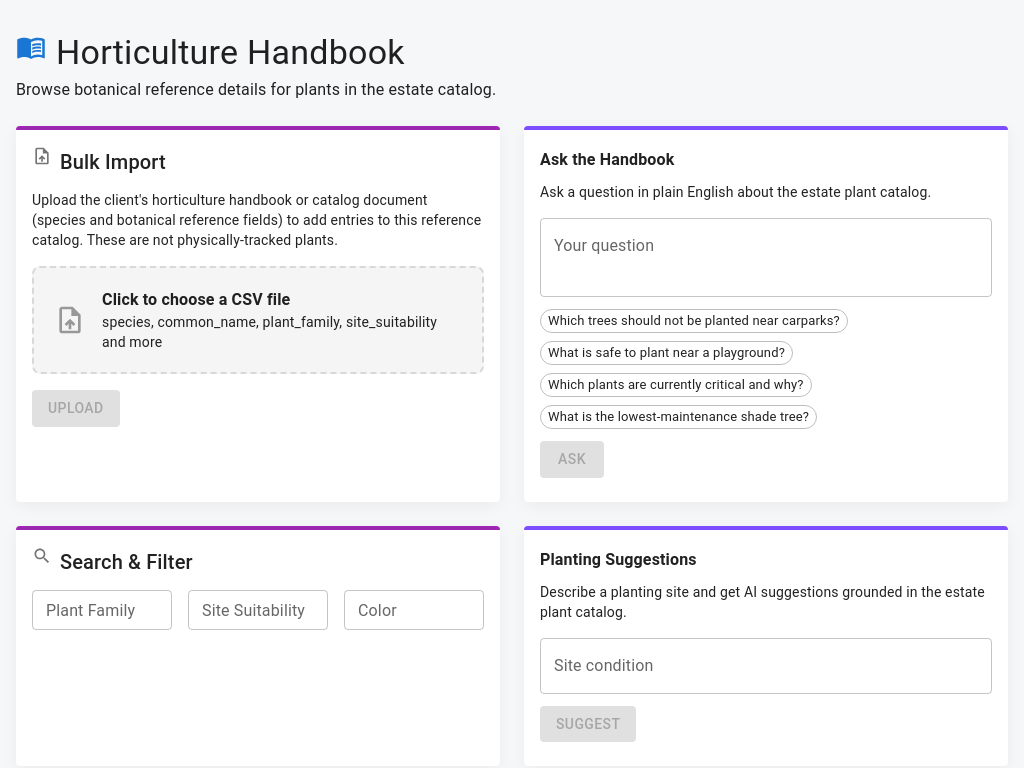
Test: HorticultureHandbook › submits a question to the Ask the Handbook box and displays the answer
Type "How often should I water ficus?" into the text box labelled "Your question".
click(766, 258); type("How often should I water ficus?")  # box [554,234,978,280]
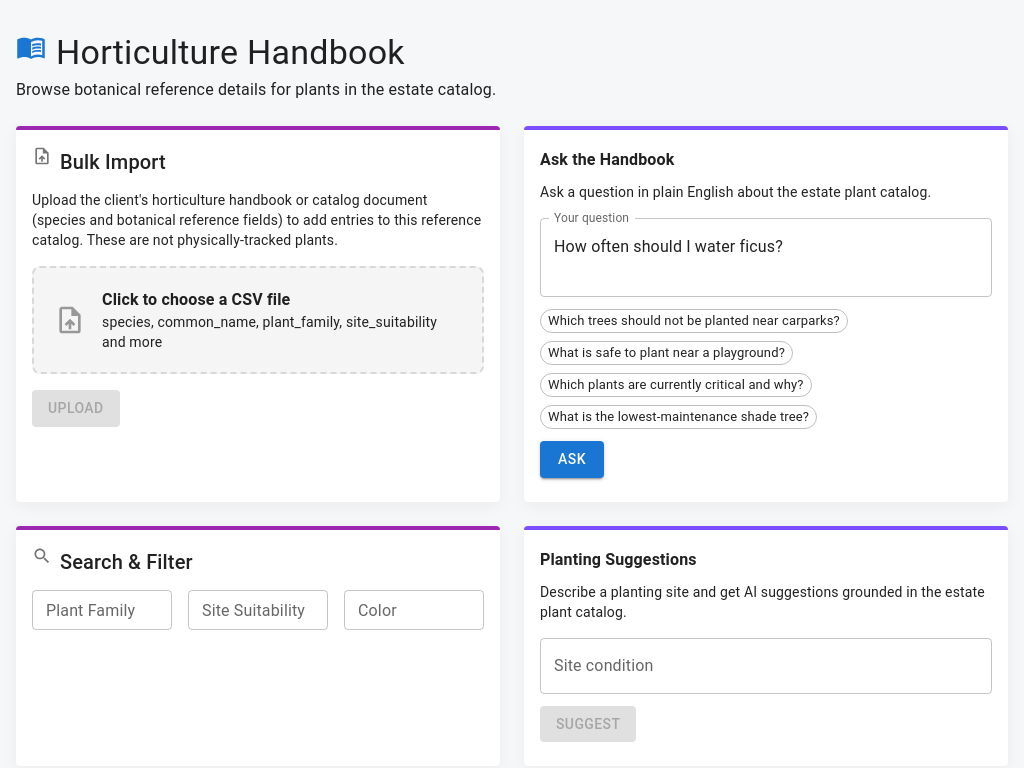
Click the button "Ask".
click(572, 459)  # box [540,441,604,478]
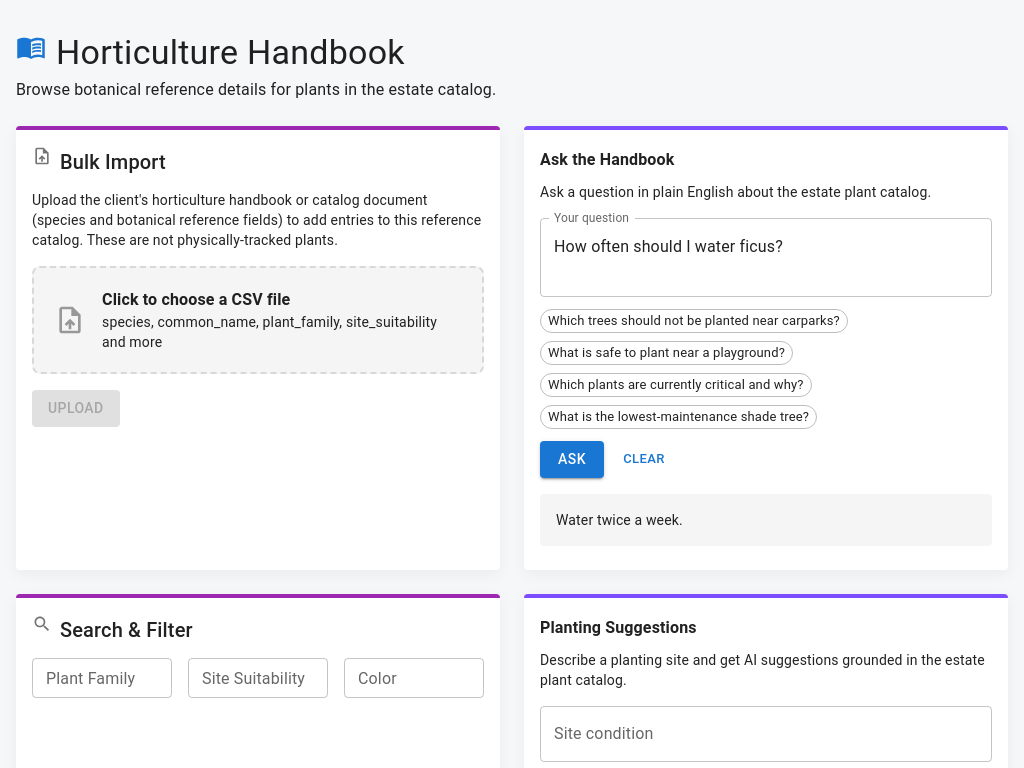
Now the text "Water twice a week." is shown, box [556,512,683,528]
